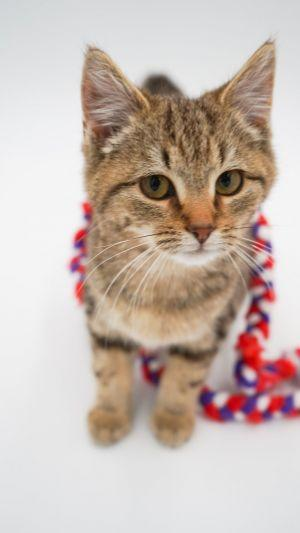bengal: (73, 19, 289, 272)
